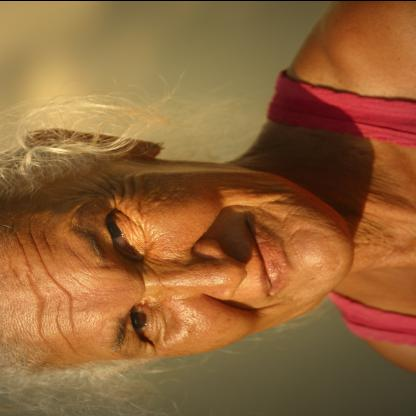Eye: (90, 210, 152, 262), (117, 301, 161, 353)
Mouth: (240, 211, 304, 298)
Nose: (142, 242, 248, 300)
